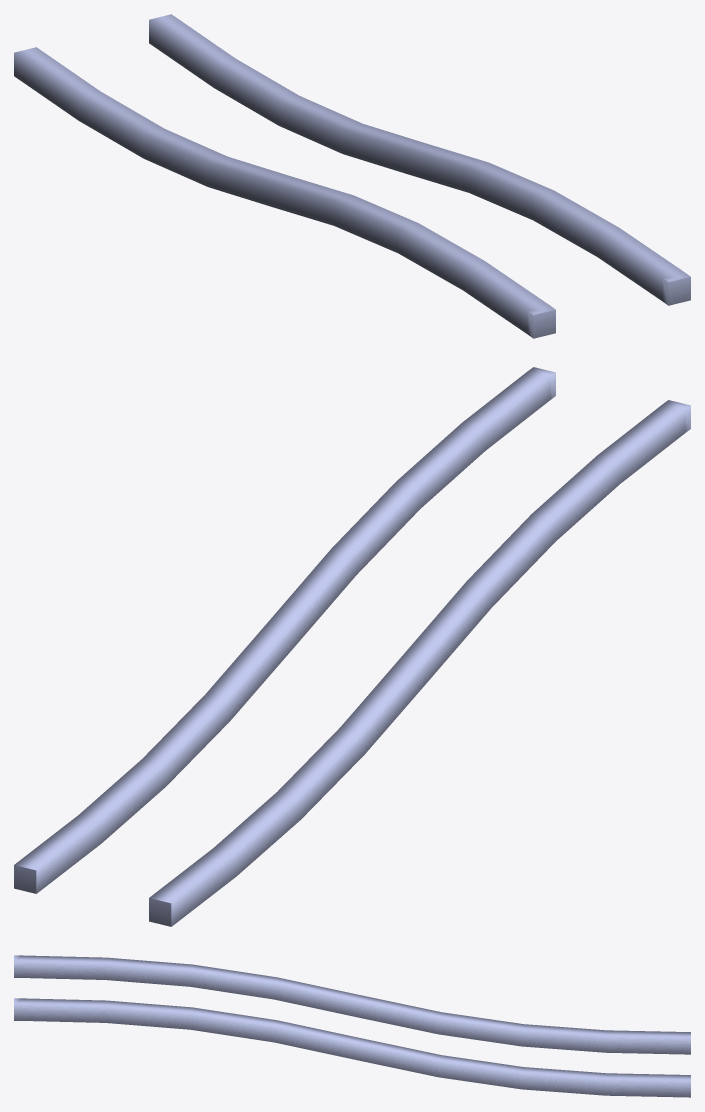
Rendered from railroad-rail-straight-hill-complete-half.glb.
3 renders of one model, top to bottom at view 1: azimuth 30°, elevation 25°; view 2: azimuth 150°, elevation 25°; view 3: azimuth 270°, elevation 25°, orthographic. The views are drawn at different scales.
Parts seen in each view (by area): view 1: railroad-rail-straight-hill-complete-half; view 2: railroad-rail-straight-hill-complete-half; view 3: railroad-rail-straight-hill-complete-half.
Part boxes in pixels (x1,y1,x2,y2): railroad-rail-straight-hill-complete-half: (14,14,690,338); railroad-rail-straight-hill-complete-half: (14,367,690,926); railroad-rail-straight-hill-complete-half: (14,955,690,1097).
Bounding box in the file's own units: 0.7 × 0.6 × 4.
Materials: 1 (1 with a texture image).
